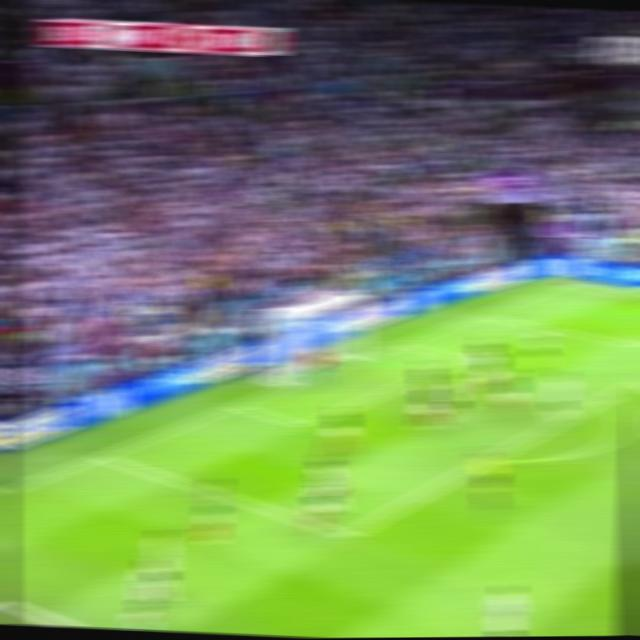bigarea_bottom_inner: (337, 525, 362, 547)
bigarea_bottom_outter: (90, 448, 116, 465)
bigarea_top_outter: (470, 309, 492, 323)
bottom_arc_area_intersection: (465, 443, 513, 478)
corner: (555, 281, 577, 288)
smallarea_bottom_inner: (292, 414, 320, 437)
smallarea_bottom_outter: (223, 397, 251, 414)
smallarea_top_inner: (451, 351, 479, 370)
smallarea_top_outter: (392, 337, 415, 352)
top_arc_area_intersection: (594, 388, 619, 409)
